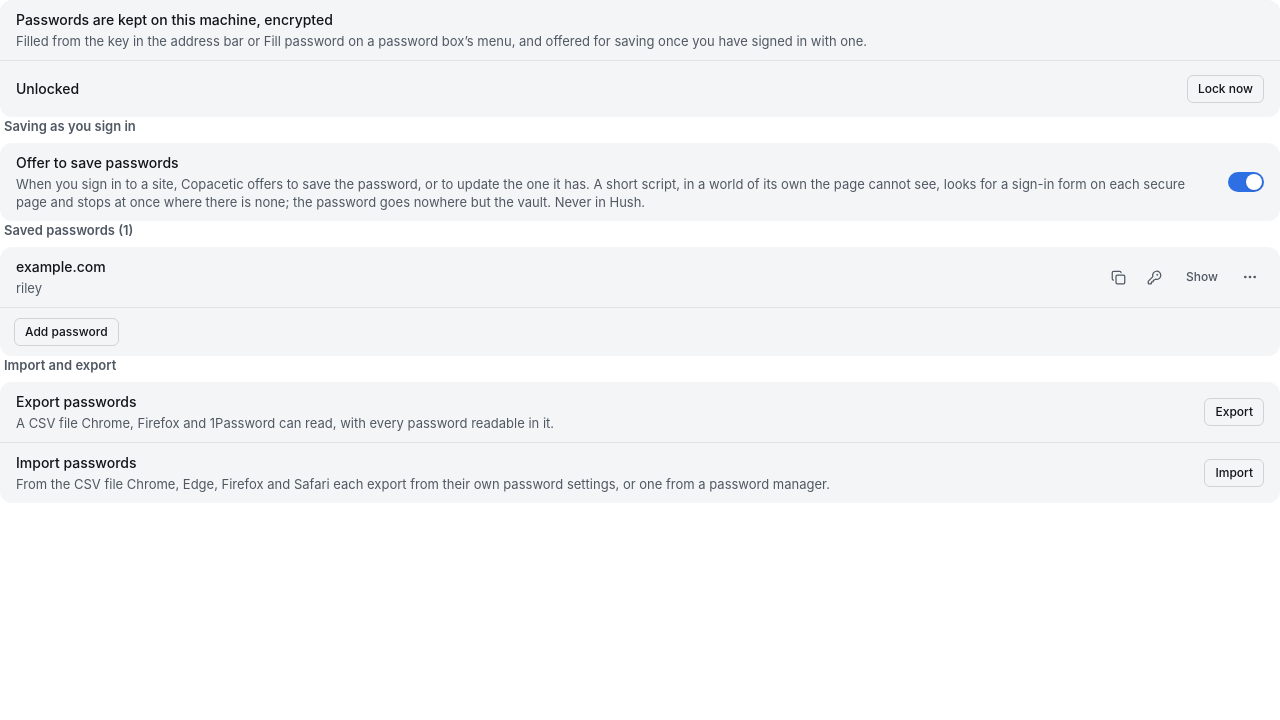
Test: working with a saved password › copies a password and says it will be cleared
Click the button named "Copy the password for example.com": [1154, 277] box [1140,263,1168,291]
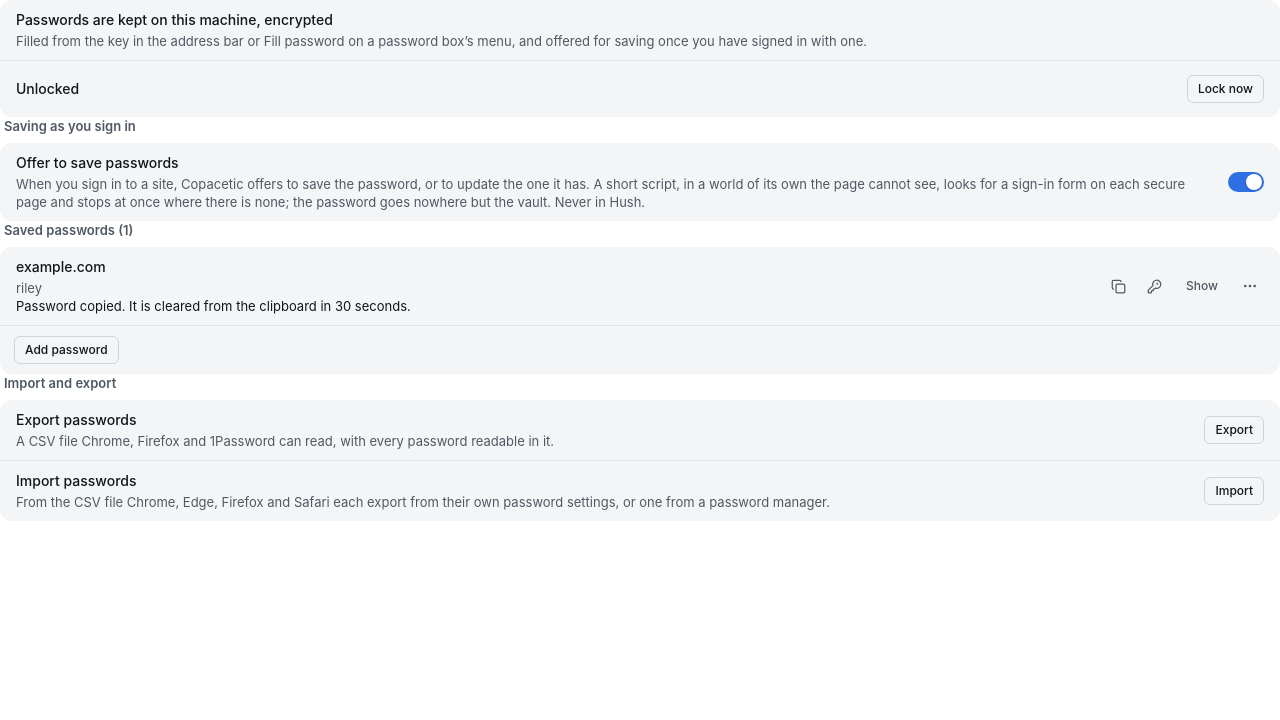
Result: the text "cleared from the clipboard in 30 seconds" is shown 2 times
